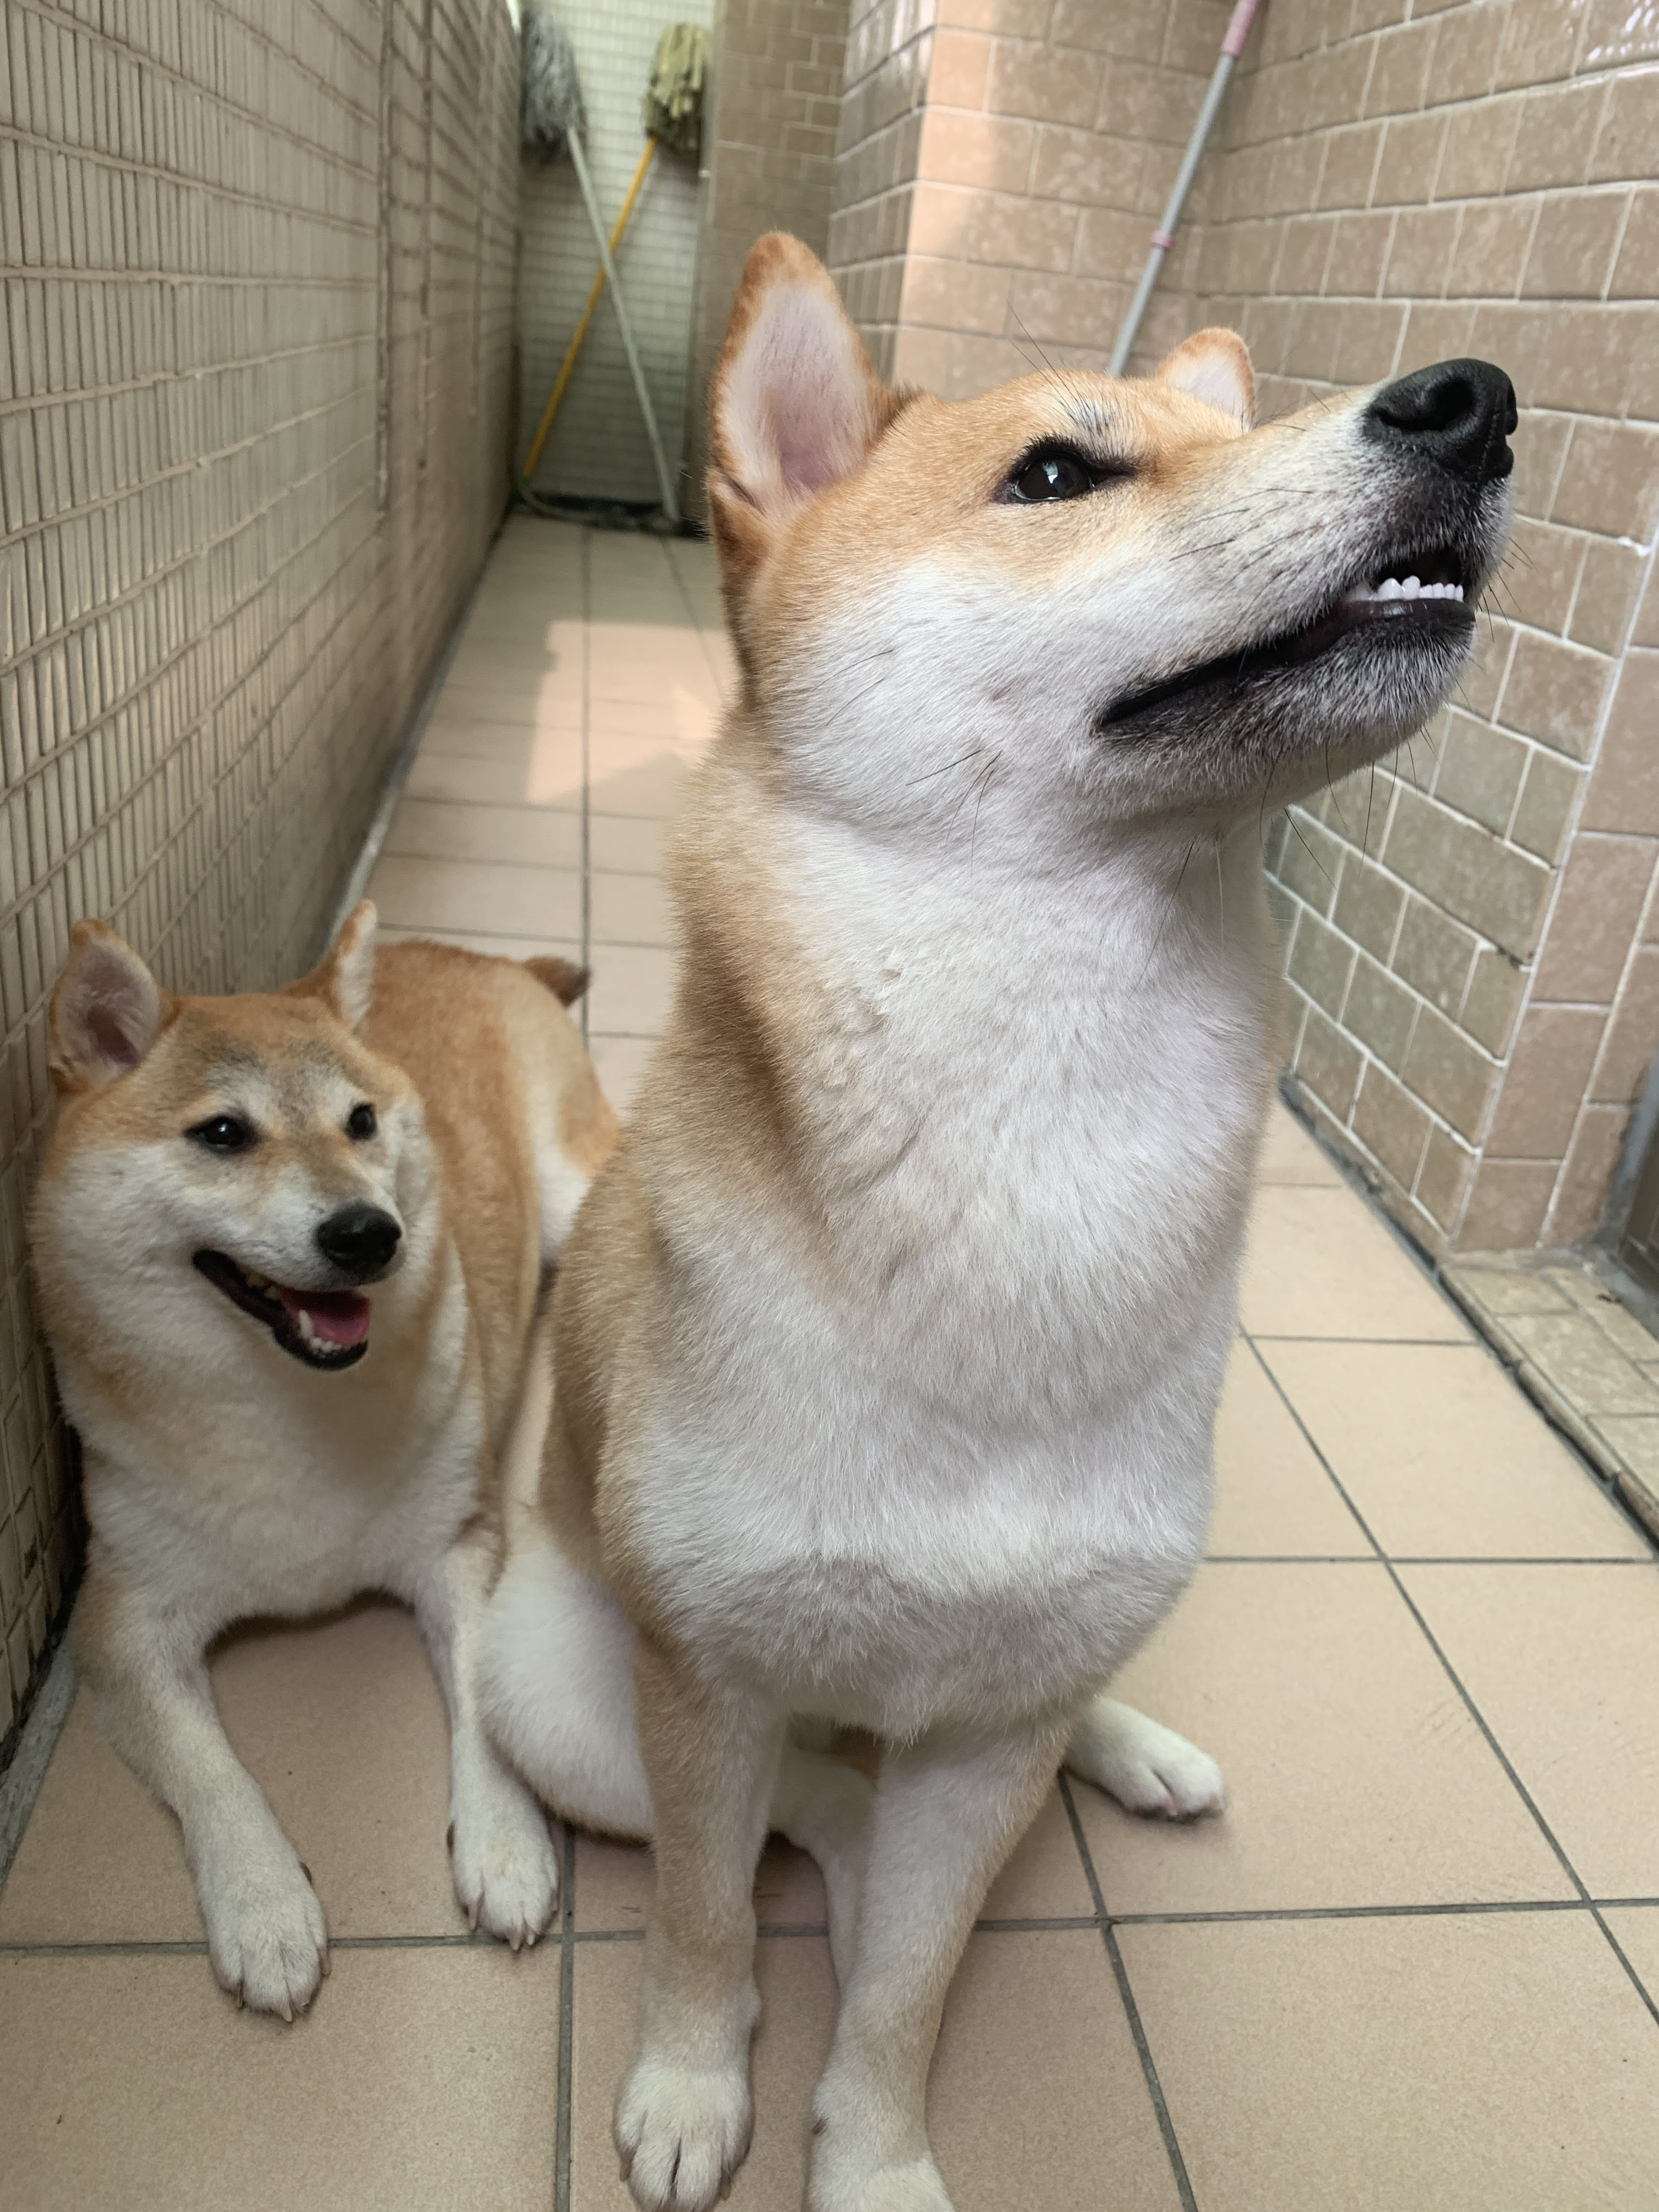Lie down: (44, 862, 657, 2064)
Sit down: (579, 223, 1525, 2212)
